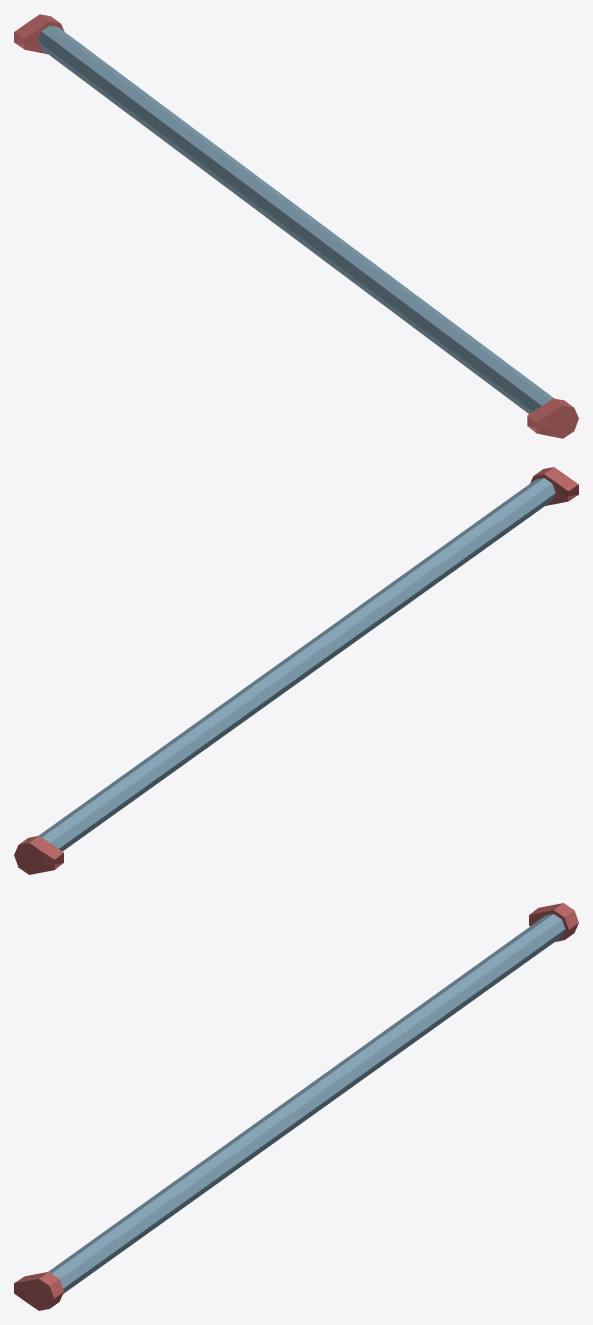
Rendered from Bedroom_Cornice.fbx.
3 views of the same model, one above another, from view 1: azimuth 30°, elevation 25°; view 2: azimuth 150°, elevation 25°; view 3: azimuth 330°, elevation 25° (orthographic). The views are drawn at different scales.
Visible parts, largest first — view 1: Bedroom_Cornice; view 2: Bedroom_Cornice; view 3: Bedroom_Cornice.
Part boxes in pixels (x1,y1,x2,y2): Bedroom_Cornice: [14, 14, 578, 438]; Bedroom_Cornice: [14, 467, 578, 874]; Bedroom_Cornice: [14, 903, 578, 1310].
Bounding box in the file's own units: 22.54 × 14.06 × 410.
